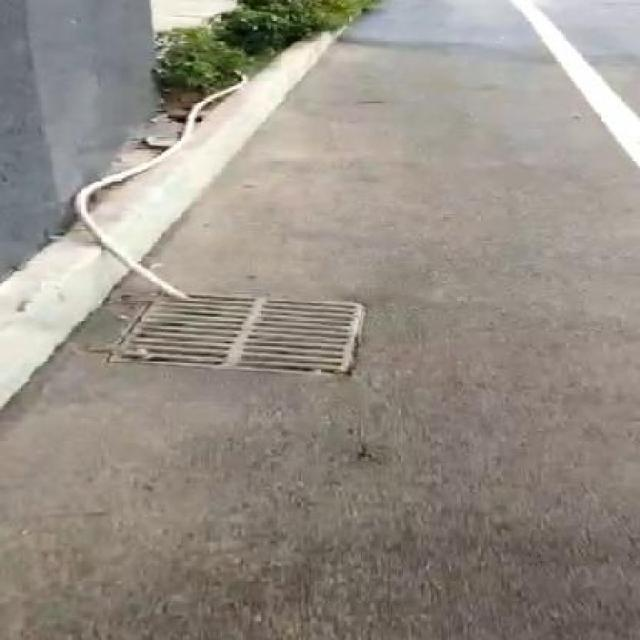Manhole: (105, 284, 378, 381)
Pothole: (347, 96, 393, 110)
